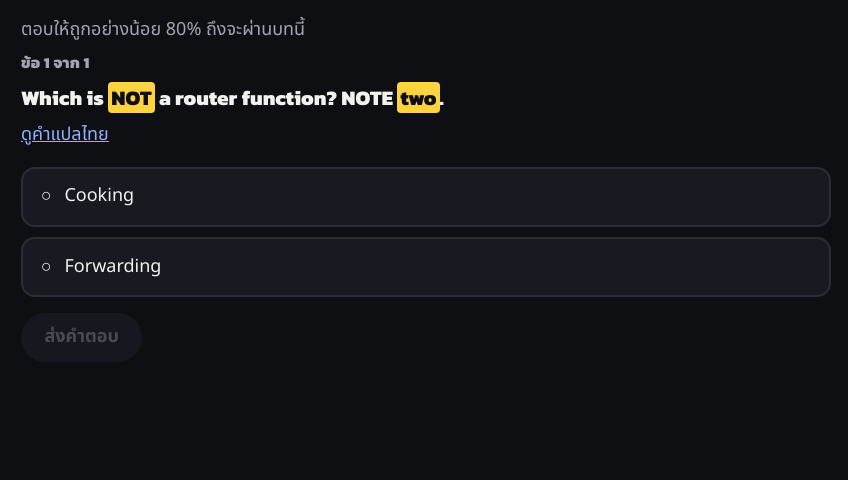
Test: QuizView › en: ปุ่มดูคำแปลไทย แสดง promptTh + textTh และ keywords ถูกห่อ <mark>
Check: the text "ข้อไหนไม่ใช่หน้าที่ของเราเตอร์" is not shown
Click the button "ดูคำแปลไทย": (65, 135) [21,120,109,151]
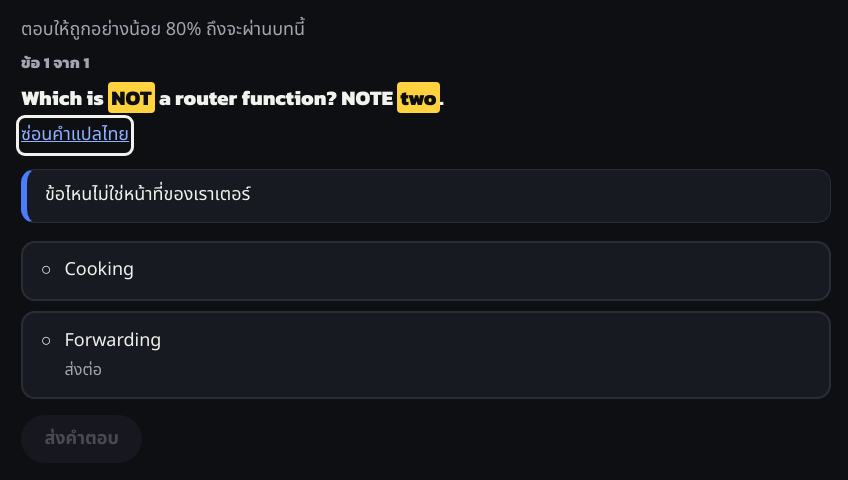
Check: the text "ข้อไหนไม่ใช่หน้าที่ของเราเตอร์" is shown, box [21,169,831,223]
Check: the text "ส่งต่อ" is shown, box [64,358,102,382]
